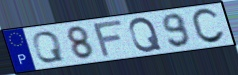8: (64, 25, 96, 61)
9: (161, 12, 194, 49)
C: (190, 7, 227, 46)
F: (92, 18, 125, 59)
Q: (128, 16, 164, 53), (31, 30, 66, 64)
